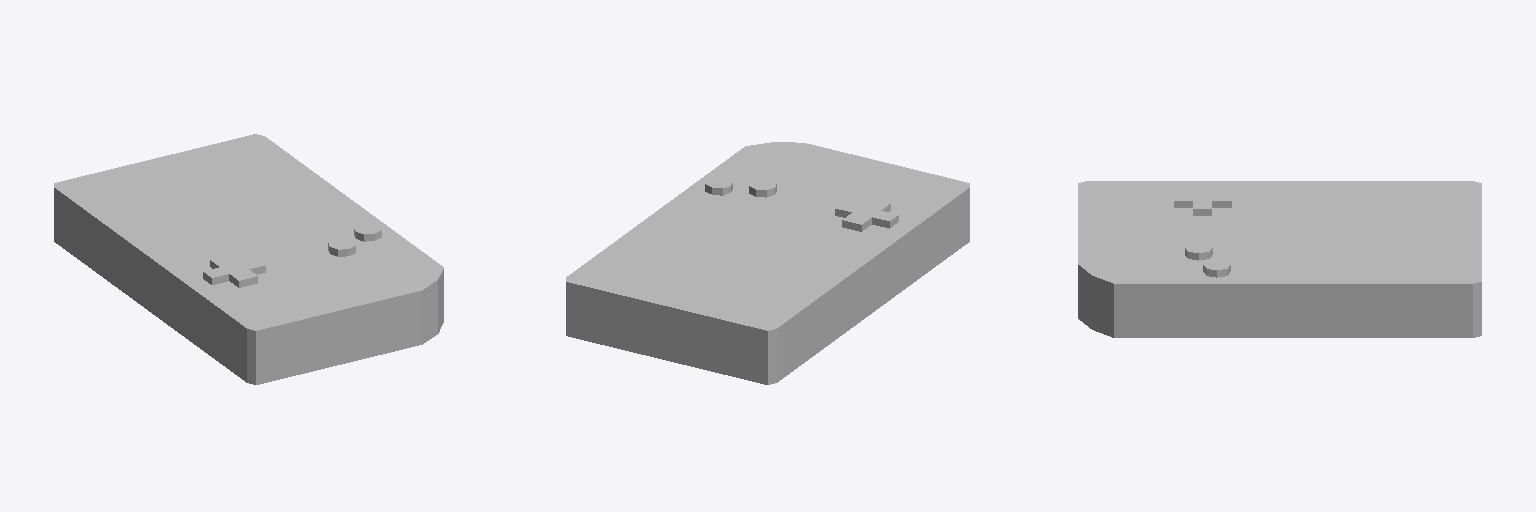
File: GameBoy.obj
The picture shows the model from 3 angles: view 1: azimuth 30°, elevation 25°; view 2: azimuth 150°, elevation 25°; view 3: azimuth 270°, elevation 25°; orthographic projection.
Parts seen in each view (by area): view 1: Game_Boy_Cube.002; view 2: Game_Boy_Cube.002; view 3: Game_Boy_Cube.002.
Boxes of the visible parts, x1,y1,x2,y2 form: Game_Boy_Cube.002: [54, 134, 443, 384]; Game_Boy_Cube.002: [566, 142, 969, 384]; Game_Boy_Cube.002: [1078, 181, 1481, 337].
Bounding box in the file's own units: 1.33 × 0.3721 × 2.21.